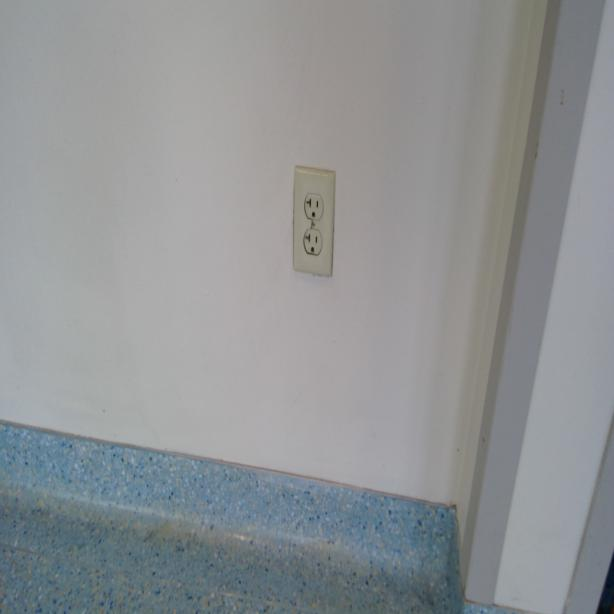typeb: (304, 193, 324, 220), (305, 230, 323, 258)
